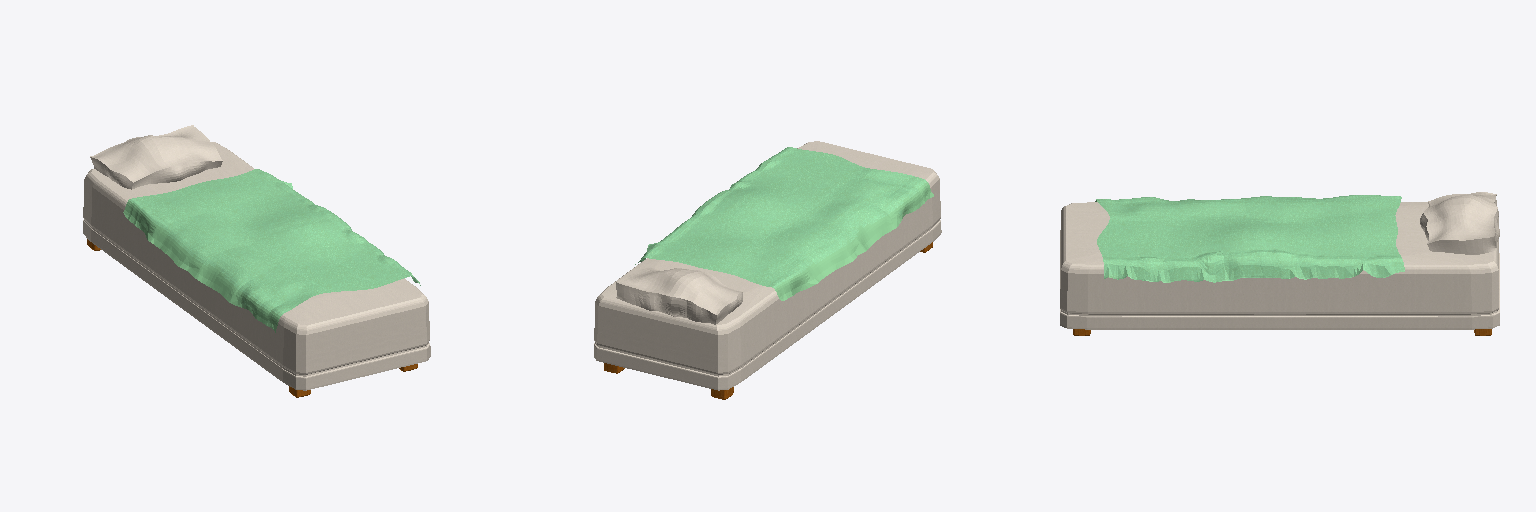
The picture shows the model from 3 angles: view 1: azimuth 30°, elevation 25°; view 2: azimuth 150°, elevation 25°; view 3: azimuth 270°, elevation 25°; orthographic projection.
Parts seen in each view (by area): view 1: cama1:polySurface2; view 2: cama1:polySurface2; view 3: cama1:polySurface2.
Boxes of the visible parts, x1=… form: cama1:polySurface2: x1=83, y1=125, x2=430, y2=397; cama1:polySurface2: x1=594, y1=141, x2=941, y2=399; cama1:polySurface2: x1=1060, y1=192, x2=1499, y2=335.
Size of the model in its own units: 2.44 by 1.5 by 5.72.
Materials: 4 (3 with a texture image).